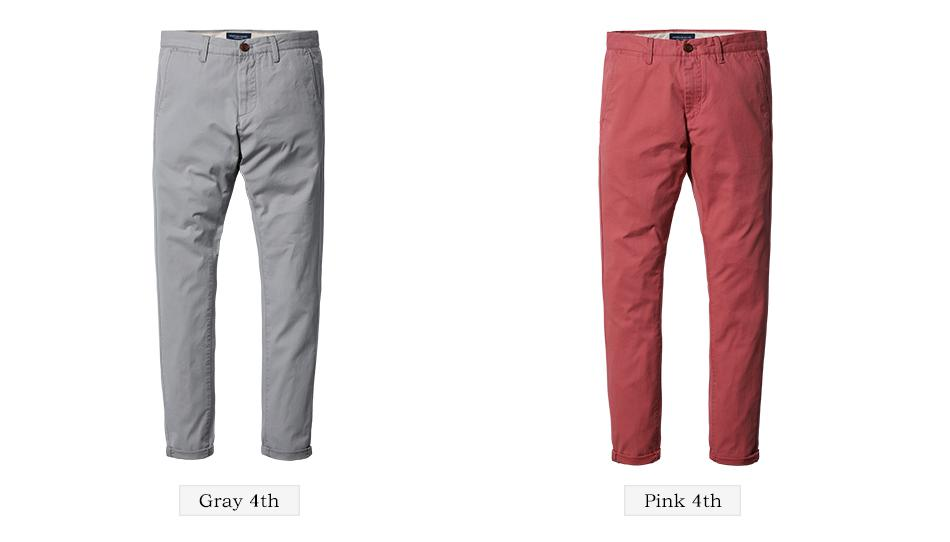pants: (154, 30, 326, 463), (598, 32, 766, 463)
